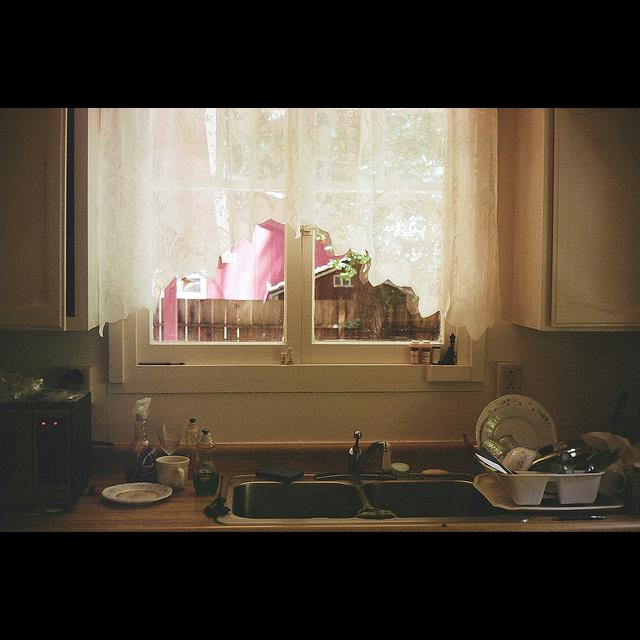Microwave: (0, 380, 92, 517)
